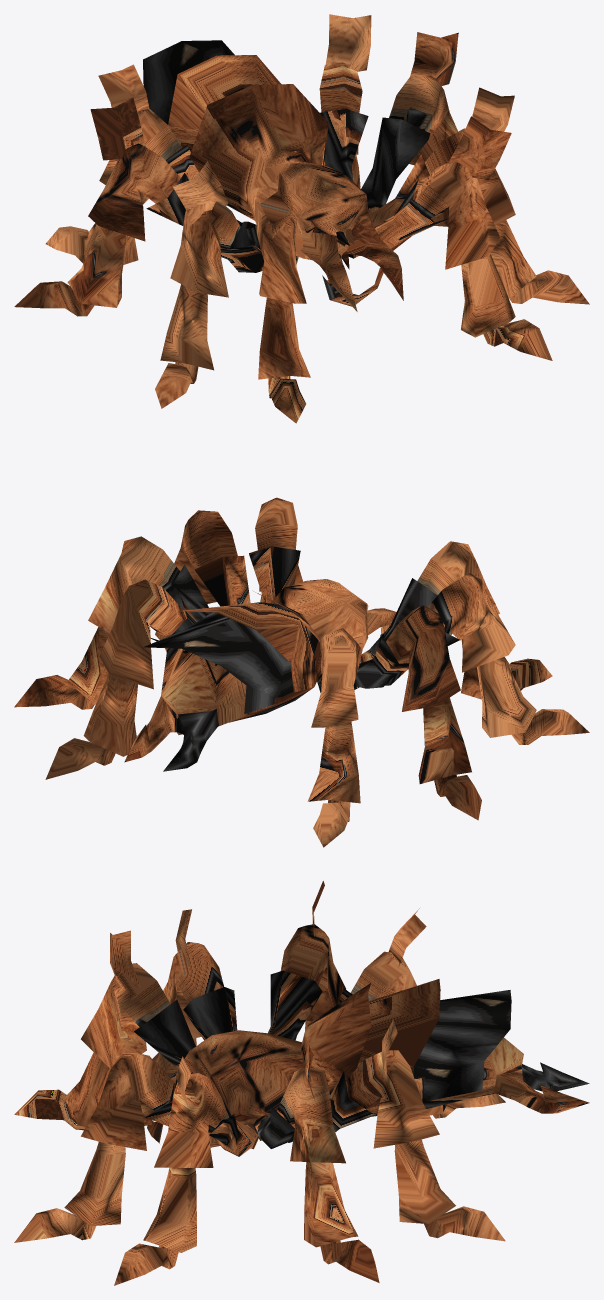
The model's file is spider.glb.
3 renders of one model, top to bottom at view 1: azimuth 30°, elevation 25°; view 2: azimuth 150°, elevation 25°; view 3: azimuth 270°, elevation 25°, orthographic. The views are drawn at different scales.
Parts seen in each view (by area): view 1: Spider01; view 2: Spider01; view 3: Spider01.
Part boxes in pixels (x1,y1,x2,y2): Spider01: (14,14,589,423); Spider01: (14,497,589,847); Spider01: (14,881,589,1285).
Bounding box in the file's own units: 4 × 1.8 × 4.19.
Materials: 1 (1 with a texture image).
